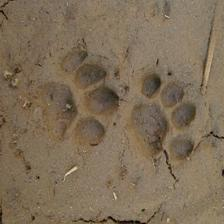cat: (26, 48, 123, 156), (126, 72, 198, 164)
